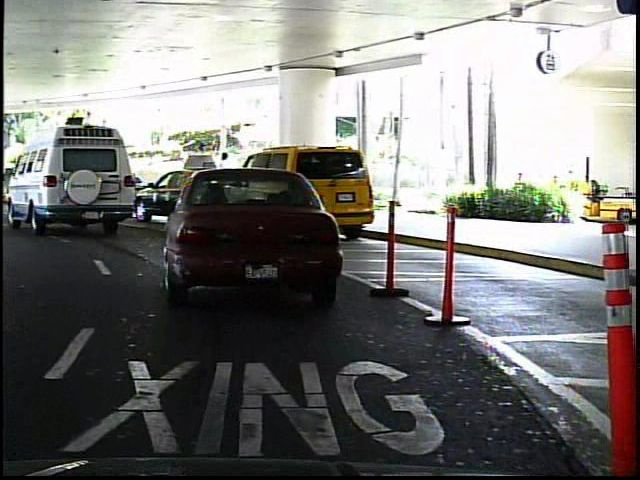person: (214, 148, 240, 216), (49, 156, 70, 199), (16, 156, 17, 198)
